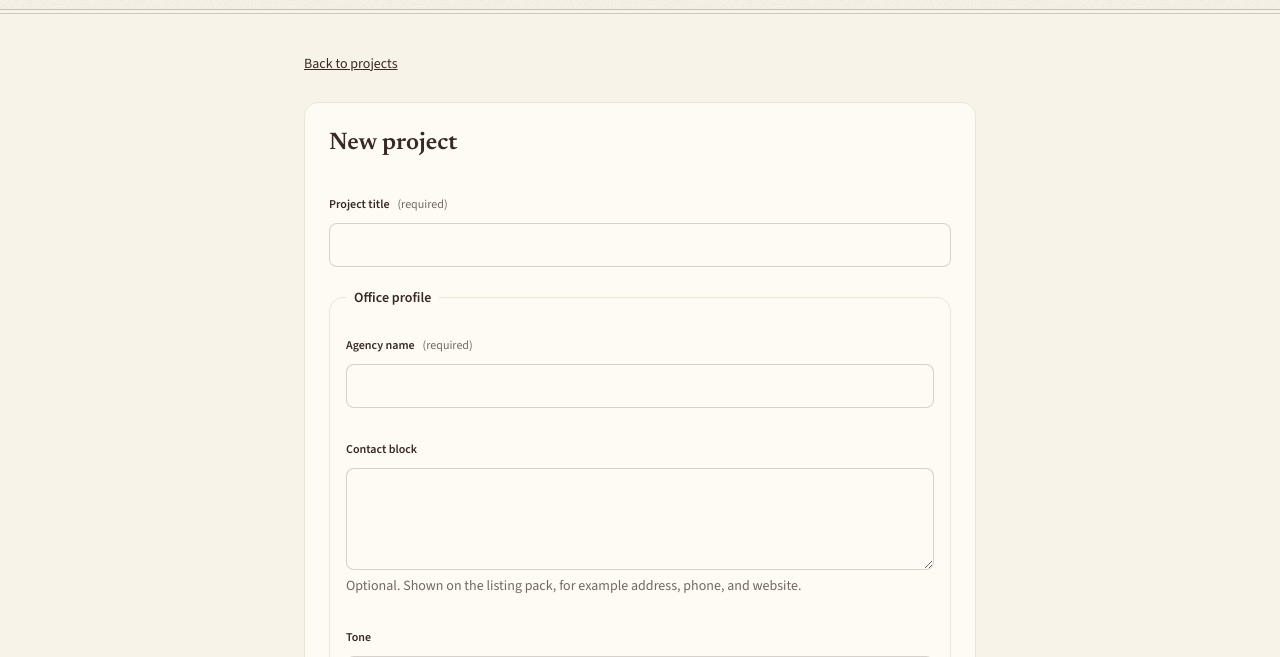
Test: new project page › shows a form-level message for other failures
In the field labelled "Project title (required)": (640, 245) [329,223,951,267], type "Alder Falls Cottage 4"
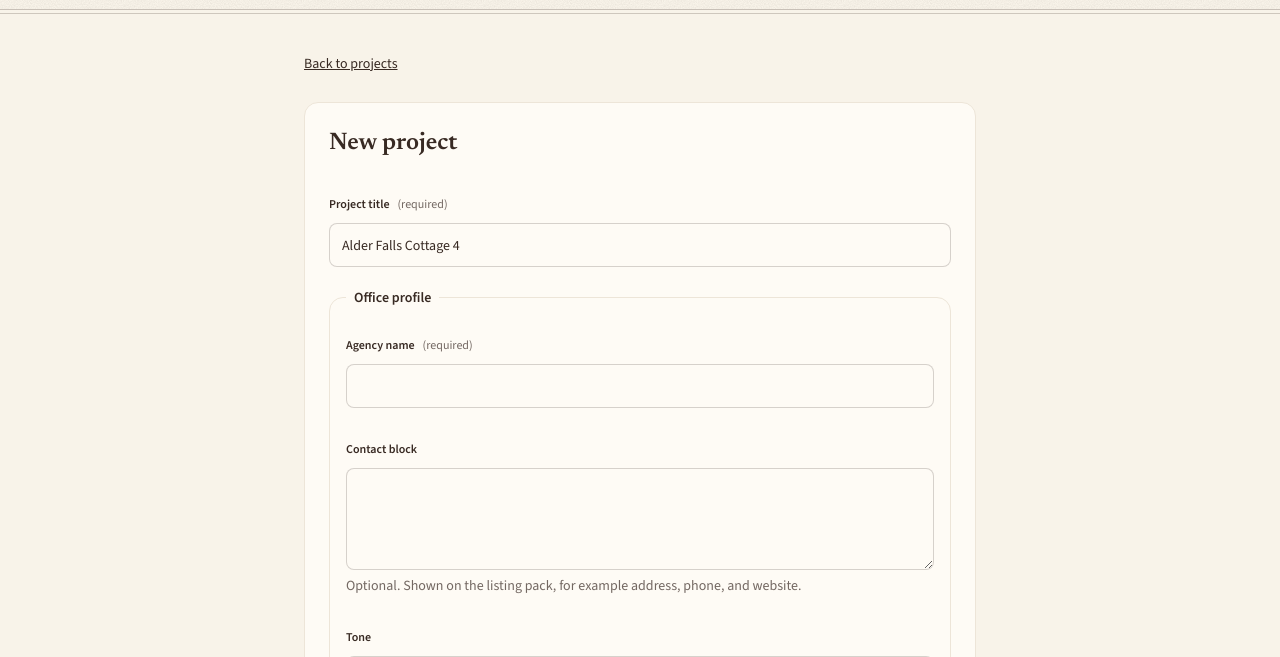
In the field labelled "Agency name (required)": (640, 386) [346,364,934,408], type "Fictional Realty Co"
(page scrolled)
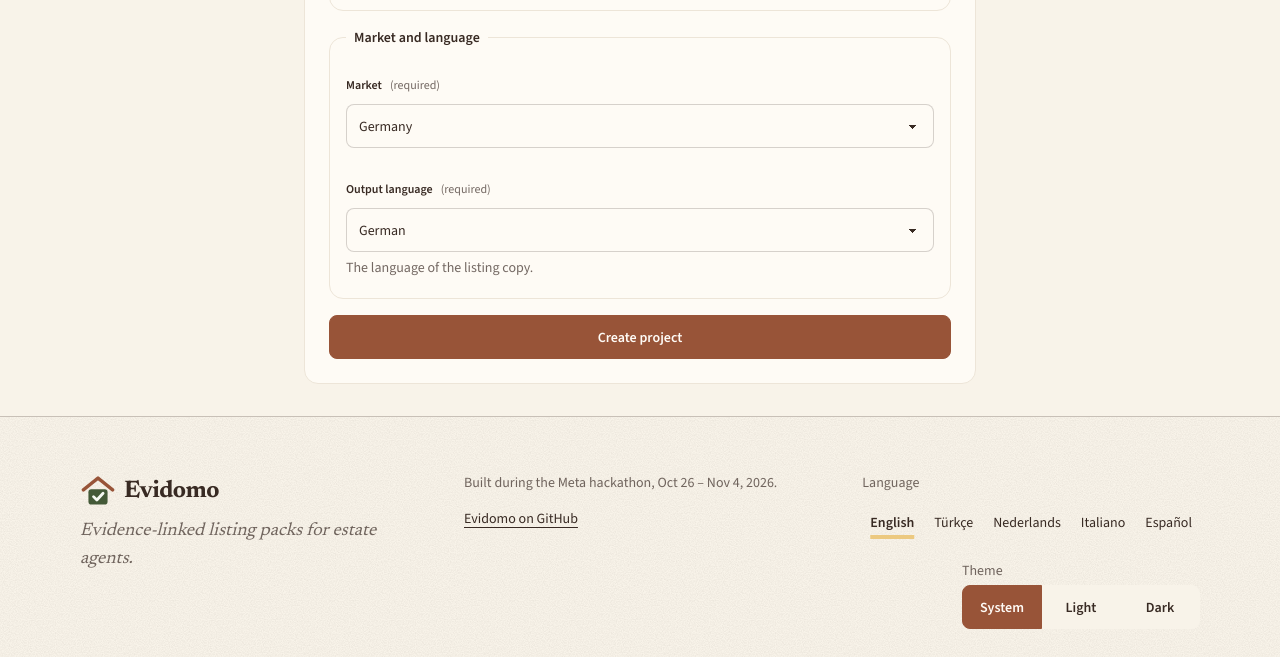
Click the button "Create project": click(640, 337) [329,315,951,359]
(page scrolled)
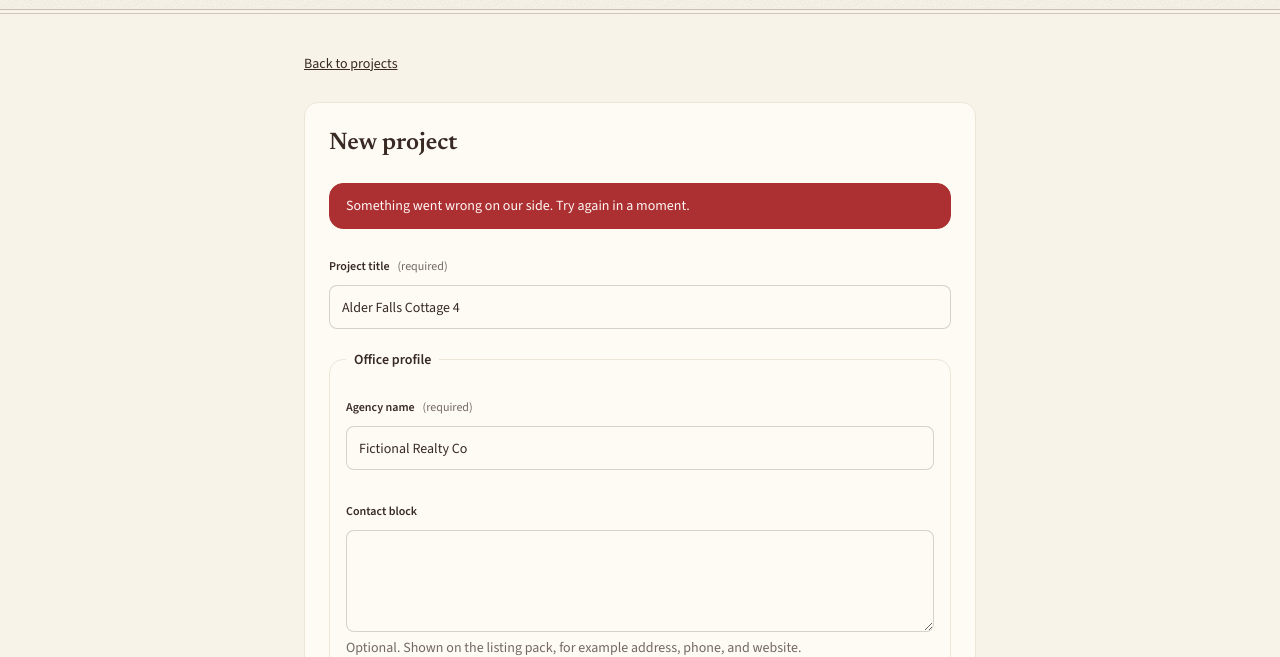
Expected: the text "Something went wrong on our side. Try again in a moment." is shown, [329,183,951,229]
